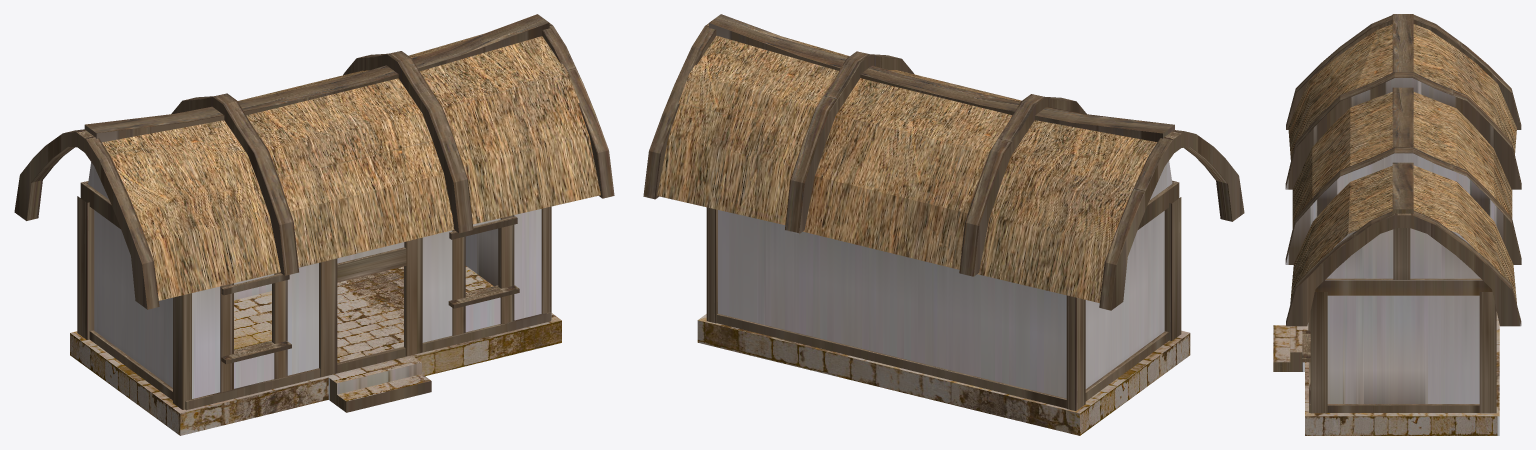
The model's file is Cabaña_1.glb.
The picture shows the model from 3 angles, left to right: view 1: azimuth 30°, elevation 25°; view 2: azimuth 150°, elevation 25°; view 3: azimuth 270°, elevation 25°; orthographic projection. The views are drawn at different scales.
Visible parts, largest first — view 1: polySurface22; view 2: polySurface22; view 3: polySurface22.
Boxes of the visible parts, left/top/right/bottom form: polySurface22: left=14, top=14, right=614, bottom=435; polySurface22: left=643, top=14, right=1244, bottom=435; polySurface22: left=1273, top=14, right=1521, bottom=435.
Bounding box in the file's own units: 15.75 × 8.85 × 8.21.
Materials: 1 (1 with a texture image).
